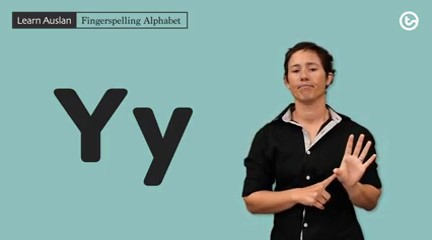Y: (292, 130, 382, 212)
